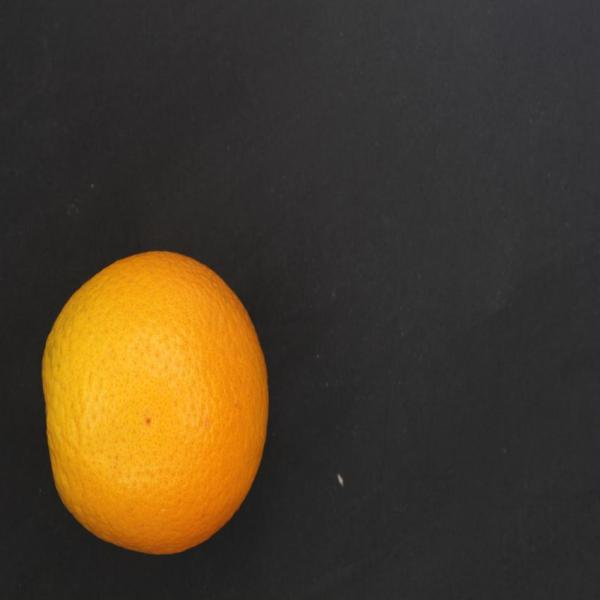Sana: (40, 239, 281, 555)
